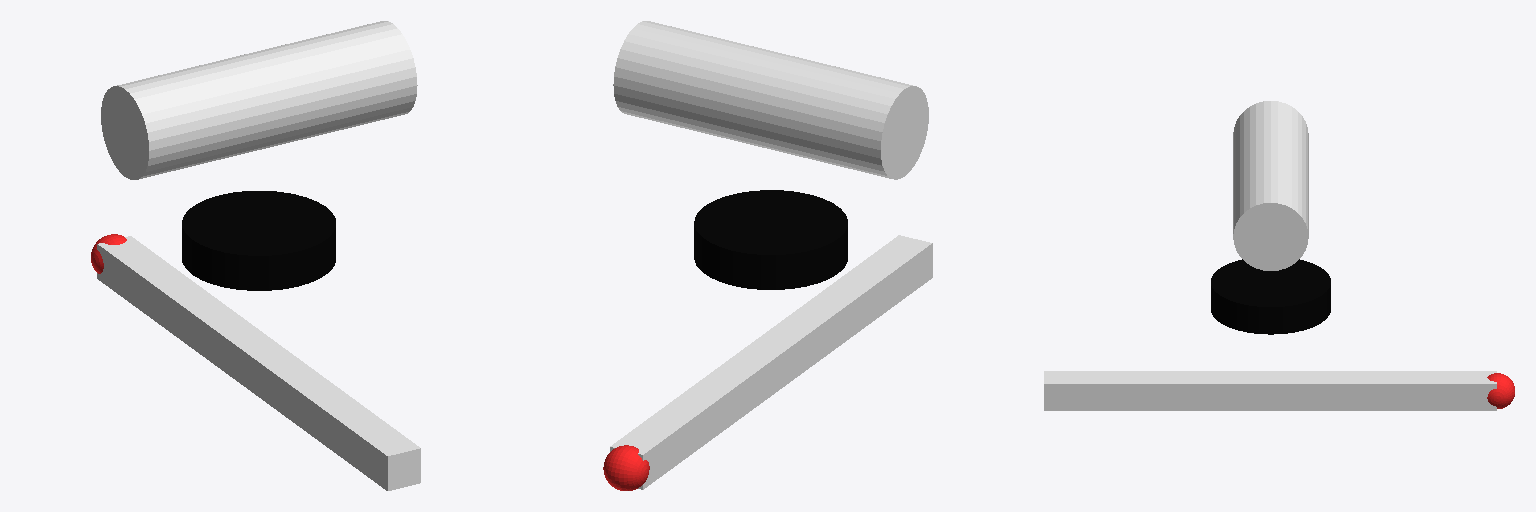
URDF robot description (two_axis_arm):
<?xml version="1.0" encoding="utf-8"?>
<!--
  two_axis_arm.urdf
  ==================
  从 ROBOT_UI/example.json 自动生成的 2-DOF 机械臂 URDF。

  参数完全对齐 example.json：
    joint1: axial      l=0.0   d=0.08  alpha=π/2  theta=0   mass=0.16  com=[0,0,0.04]  actuator_mass=0.055
    joint2: tangential l=0.15  d=0.0   alpha=0     theta=π/2 mass=0.12  com=[0.075,0,0]  actuator_mass=0.045

  说明：
    - 关节名用 joint_1 / joint_2（与 server.py 转 ROS 的命名一致）
    - 关节类型全部 revolute
    - 关节轴方向：joint_1 绕基座 Z（axial = 轴向旋转），joint_2 在水平面内俯仰
    - 末端加一个 wrist_tip link（固定关节），便于 ManiSkill 取 tcp 位姿
    - 转动惯量用细杆公式近似：I_xx=I_yy=m*l²/12, I_zz=0（仅用于仿真，数值精度要求不高）
-->
<robot name="two_axis_arm">

  <!-- ============== 材质 ============== -->
  <material name="arm_white">
    <color rgba="0.95 0.95 0.95 1" />
  </material>
  <material name="arm_motor">
    <color rgba="0.05 0.05 0.05 1" />
  </material>
  <material name="tip_red">
    <color rgba="1.0 0.2 0.2 1" />
  </material>

  <!-- ============== 固定基座（与 world 固连；fix_root_link=True 时作为根 link） ============== -->
  <link name="base_link">
    <inertial>
      <!-- 基座假设小，惯性张量近似为零 -->
      <origin xyz="0 0 0" rpy="0 0 0"/>
      <mass value="0.001"/>
      <inertia ixx="1e-6" ixy="0" ixz="0" iyy="1e-6" iyz="0" izz="1e-6"/>
    </inertial>
    <visual>
      <origin xyz="0 0 0" rpy="0 0 0"/>
      <geometry>
        <cylinder radius="0.04" length="0.02"/>
      </geometry>
      <material name="arm_motor"/>
    </visual>
    <collision>
      <origin xyz="0 0 0" rpy="0 0 0"/>
      <geometry>
        <cylinder radius="0.04" length="0.02"/>
      </geometry>
    </collision>
  </link>

  <!-- ===================================================== -->
  <!-- joint_1（对应 example.json joint1，axial）              -->
  <!-- DH: l=0, d=0.08, alpha=π/2, theta=0                     -->
  <!-- 几何解释：绕基座 Z 轴的轴向旋转，关节沿 Z 偏距 0.08m    -->
  <!-- ===================================================== -->
  <joint name="joint_1" type="revolute">
    <parent link="base_link"/>
    <child  link="link_1"/>
    <!-- 关节原点位于基座上方 d=0.08m，扭转 alpha=π/2 让 link1 转到水平方向 -->
    <origin xyz="0 0 0.08" rpy="0 1.5708 0"/>
    <axis  xyz="0 0 1"/>
    <limit lower="-3.14159" upper="3.14159" effort="100" velocity="3.0"/>
  </joint>

  <link name="link_1">
    <inertial>
      <!-- 质量、质心来自 example.json joint1.link -->
      <origin xyz="0.0 0.0 0.04" rpy="0 0 0"/>
      <mass value="0.16"/>
      <!-- 细杆近似：以质心为中心，0.08m 长的杆 -->
      <inertia ixx="0.0000853" ixy="0" ixz="0"
               iyy="0.0000853" iyz="0"
               izz="0.000001"/>
    </inertial>
    <visual>
      <origin xyz="0 0 0" rpy="0 0 0"/>
      <geometry>
        <!-- 代表 joint1 的连杆（小立柱）- 从关节原点延伸到上一关节 -->
        <cylinder radius="0.025" length="0.16"/>
      </geometry>
      <material name="arm_white"/>
    </visual>
    <collision>
      <origin xyz="0 0 0" rpy="0 0 0"/>
      <geometry>
        <cylinder radius="0.025" length="0.16"/>
      </geometry>
    </collision>
  </link>

  <!-- ===================================================== -->
  <!-- joint_2（对应 example.json joint2，tangential）         -->
  <!-- DH: l=0.15, d=0.0, alpha=0, theta=π/2                  -->
  <!-- 几何解释：在水平面内做切向俯仰，杆长 0.15m              -->
  <!-- ===================================================== -->
  <joint name="joint_2" type="revolute">
    <parent link="link_1"/>
    <child  link="link_2"/>
    <!-- 沿 link_1 末端（alpha 旋转后的 x 方向）伸出 l=0.15m；
         theta=π/2 让 link_2 初始姿态为水平 -->
    <origin xyz="0.15 0 0" rpy="0 0 1.5708"/>
    <axis  xyz="0 0 1"/>
    <limit lower="-3.14159" upper="3.14159" effort="100" velocity="3.0"/>
  </joint>

  <link name="link_2">
    <inertial>
      <!-- 质量、质心来自 example.json joint2.link -->
      <origin xyz="0.075 0.0 0.0" rpy="0 0 0"/>
      <mass value="0.12"/>
      <!-- 细杆近似：以质心为中心，0.15m 长的杆 -->
      <inertia ixx="0.000225" ixy="0" ixz="0"
               iyy="0.000225" iyz="0"
               izz="0.000001"/>
    </inertial>
    <visual>
      <origin xyz="0 0 0" rpy="0 0 0"/>
      <geometry>
        <!-- 代表 joint2 的连杆（水平杆）- 从关节位置延伸到下一关节 -->
        <box size="0.30 0.02 0.02"/>
      </geometry>
      <material name="arm_white"/>
    </visual>
    <collision>
      <origin xyz="0 0 0" rpy="0 0 0"/>
      <geometry>
        <box size="0.30 0.02 0.02"/>
      </geometry>
    </collision>
  </link>

  <!-- ===================================================== -->
  <!-- 末端 tip（fixed joint，方便 ManiSkill 取 tcp）          -->
  <!-- ===================================================== -->
  <joint name="wrist_tip_joint" type="fixed">
    <parent link="link_2"/>
    <child  link="wrist_tip"/>
    <origin xyz="0.15 0 0" rpy="0 0 0"/>
  </joint>

  <link name="wrist_tip">
    <inertial>
      <origin xyz="0 0 0" rpy="0 0 0"/>
      <mass value="0.001"/>
      <inertia ixx="1e-6" ixy="0" ixz="0" iyy="1e-6" iyz="0" izz="1e-6"/>
    </inertial>
    <visual>
      <origin xyz="0 0 0" rpy="0 0 0"/>
      <geometry>
        <sphere radius="0.012"/>
      </geometry>
      <material name="tip_red"/>
    </visual>
    <collision>
      <origin xyz="0 0 0" rpy="0 0 0"/>
      <geometry>
        <sphere radius="0.012"/>
      </geometry>
    </collision>
  </link>

</robot>

--- Facts derived from the render (not from the file) ---
The picture shows the robot from 3 angles, left to right: view 1: azimuth 30°, elevation 25°; view 2: azimuth 150°, elevation 25°; view 3: azimuth 270°, elevation 25°; orthographic projection.
Model two_axis_arm with 4 links and 3 joints (2 revolute, 1 fixed), rooted at base_link, posed every joint at zero.
Visible links, largest first — view 1: link_1, link_2, base_link; view 2: link_1, link_2, base_link, wrist_tip; view 3: link_2, link_1, base_link, wrist_tip.
Boxes of the visible links, box(x1,y1,x2,y2) form: link_1: box(101, 21, 417, 179); link_2: box(97, 236, 420, 490); base_link: box(182, 191, 335, 290); link_1: box(613, 21, 928, 179); link_2: box(610, 235, 932, 489); base_link: box(694, 190, 847, 289); wrist_tip: box(603, 445, 649, 490); link_2: box(1044, 371, 1496, 410); link_1: box(1233, 101, 1308, 270); base_link: box(1211, 259, 1330, 334); wrist_tip: box(1487, 373, 1514, 408).
Size in the robot's own frame: 0.16 by 0.312 by 0.187 metres.
Geometry: primitives only (box / cylinder / sphere), no mesh files.
